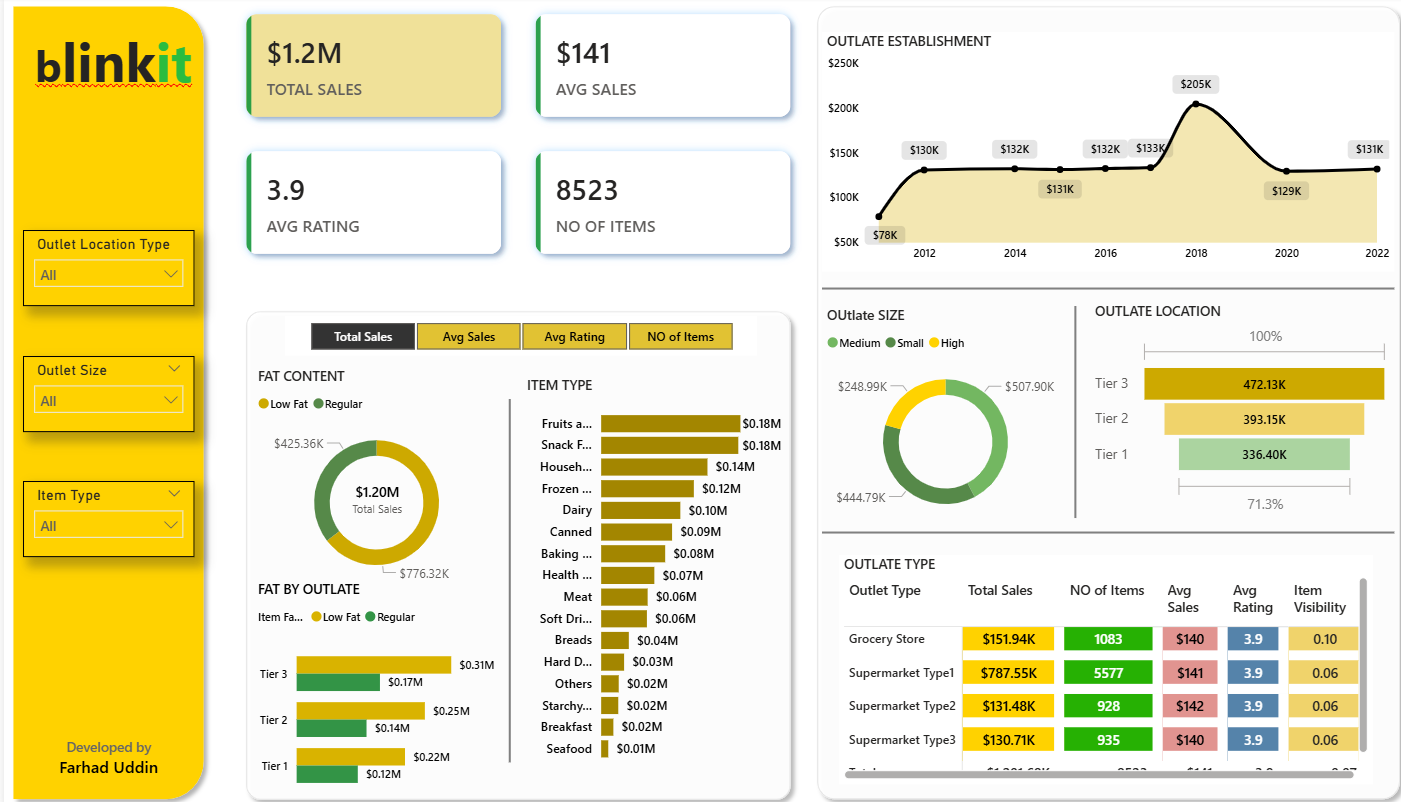

What the dashboard file says about the page in this screenshot:
{"tool":"powerbi","page":{"name":"Page 1","canvas":[1400,800],"ordinal":0},"visuals":[{"type":"shape","box":[0,0,205.8,799.5],"z":0},{"type":"textbox","box":[276.4,697.4,180.6,102.1],"z":1000},{"type":"textbox","box":[25.1,20.4,180.6,100.5],"z":2000},{"type":"cardVisual","fields":{"Data":["BlinkIT Grocery Data.Total Sales","BlinkIT Grocery Data.Avg Sales","BlinkIT Grocery Data.Avg Rating","BlinkIT Grocery Data.NO of Items"]},"box":[221.5,0,570,270],"z":3000},{"type":"shape","box":[229.3,300,554.5,499.5],"z":4000},{"type":"donutChart","title":"FAT CONTENT","fields":{"Y":["BlinkIT Grocery Data.Total Sales"],"Category":["BlinkIT Grocery Data.Item Fat Content"]},"box":[245,364.4,243.5,223],"z":5000},{"type":"slicer","fields":{"Values":["Metrics.Metrics"]},"box":[276.4,314.1,464.9,39.3],"z":6000},{"type":"cardVisual","fields":{"Data":["BlinkIT Grocery Data.Total Sales"]},"box":[323.6,463.4,89.5,64.4],"z":7000},{"type":"clusteredBarChart","title":"FAT BY OUTLATE","fields":{"Y":["BlinkIT Grocery Data.Total Sales"],"Category":["BlinkIT Grocery Data.Outlet Location Type"],"Series":["BlinkIT Grocery Data.Item Fat Content"]},"box":[245,574.9,243.5,224.6],"z":8000},{"type":"shape","box":[490.1,395.8,17.3,358.1],"z":9000},{"type":"barChart","title":"ITEM TYPE","fields":{"Y":["BlinkIT Grocery Data.Total Sales"],"Category":["BlinkIT Grocery Data.Item Type"]},"box":[510.5,373.8,260.7,389.5],"z":10000},{"type":"shape","box":[791.6,0,592.2,799.5],"z":11000},{"type":"lineChart","title":"OUTLATE ESTABLISHMENT","fields":{"Category":["BlinkIT Grocery Data.Outlet Establishment Year"],"Y":["BlinkIT Grocery Data.Total Sales"]},"box":[805.8,34.6,563.9,235.6],"z":12000},{"type":"shape","box":[805.8,270.2,563.9,34.6],"z":13000},{"type":"donutChart","title":"OUtlate SIZE","fields":{"Y":["BlinkIT Grocery Data.Total Sales"],"Category":["BlinkIT Grocery Data.Outlet Size"]},"box":[805.8,304.7,243.5,223],"z":14000},{"type":"shape","box":[1049.2,304.7,12.6,208.9],"z":15000},{"type":"funnel","title":"OUTLATE LOCATION","fields":{"Y":["Sum(BlinkIT Grocery Data.Sales)"],"Category":["BlinkIT Grocery Data.Outlet Location Type"]},"box":[1069.6,300,300,213.6],"z":16000},{"type":"shape","box":[805.8,510.5,563.9,34.6],"z":17000},{"type":"pivotTable","title":"OUTLATE TYPE","fields":{"Rows":["BlinkIT Grocery Data.Outlet Type"],"Values":["BlinkIT Grocery Data.Total Sales","BlinkIT Grocery Data.NO of Items","BlinkIT Grocery Data.Avg Sales","BlinkIT Grocery Data.Avg Rating","Avg(BlinkIT Grocery Data.Item Visibility)"]},"box":[823,549.7,526.2,226.2],"z":18000},{"type":"slicer","fields":{"Values":["BlinkIT Grocery Data.Outlet Location Type"]},"box":[18.5,230,169.2,75.3],"z":19000},{"type":"slicer","fields":{"Values":["BlinkIT Grocery Data.Outlet Size"]},"box":[18.5,354.2,169.2,75.3],"z":20000},{"type":"slicer","fields":{"Values":["BlinkIT Grocery Data.Item Type"]},"box":[18.5,477.1,169.2,75.3],"z":21000},{"type":"textbox","box":[34.4,725.6,137.4,74],"z":22000}]}

Visuals, with their boxes in screenshot pixels (x1, y1, x2, y2), scaled from the page's 1400x800 canvas onto the 1401x802 screenshot:
shape: box=[0, 0, 206, 801]
textbox: box=[277, 699, 457, 801]
textbox: box=[25, 20, 206, 121]
cardVisual - BlinkIT Grocery Data.Total Sales x BlinkIT Grocery Data.Avg Sales: box=[222, 0, 792, 271]
shape: box=[229, 301, 784, 801]
"FAT CONTENT" donutChart: box=[245, 365, 489, 589]
slicer - Metrics.Metrics: box=[277, 315, 742, 354]
cardVisual - BlinkIT Grocery Data.Total Sales: box=[324, 465, 413, 529]
"FAT BY OUTLATE" clusteredBarChart: box=[245, 576, 489, 801]
shape: box=[490, 397, 508, 756]
"ITEM TYPE" barChart: box=[511, 375, 772, 765]
shape: box=[792, 0, 1385, 801]
"OUTLATE ESTABLISHMENT" lineChart: box=[806, 35, 1371, 271]
shape: box=[806, 271, 1371, 306]
"OUtlate SIZE" donutChart: box=[806, 305, 1050, 529]
shape: box=[1050, 305, 1063, 515]
"OUTLATE LOCATION" funnel: box=[1070, 301, 1371, 515]
shape: box=[806, 512, 1371, 546]
"OUTLATE TYPE" pivotTable: box=[824, 551, 1350, 778]
slicer - BlinkIT Grocery Data.Outlet Location Type: box=[19, 231, 188, 306]
slicer - BlinkIT Grocery Data.Outlet Size: box=[19, 355, 188, 431]
slicer - BlinkIT Grocery Data.Item Type: box=[19, 478, 188, 554]
textbox: box=[34, 727, 172, 801]
